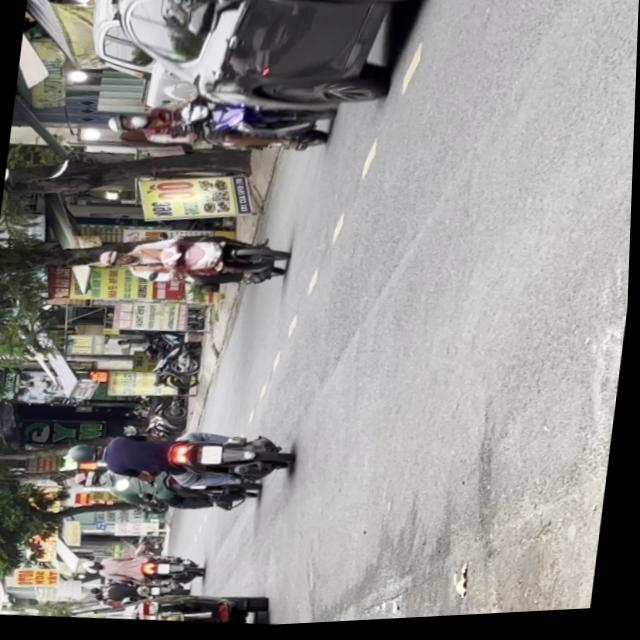helmet: (106, 109, 148, 134), (68, 440, 108, 465), (98, 247, 134, 269)
licenseplate: (103, 83, 339, 167), (62, 415, 297, 498), (93, 221, 295, 299)
nohelmet: (203, 446, 225, 467)
